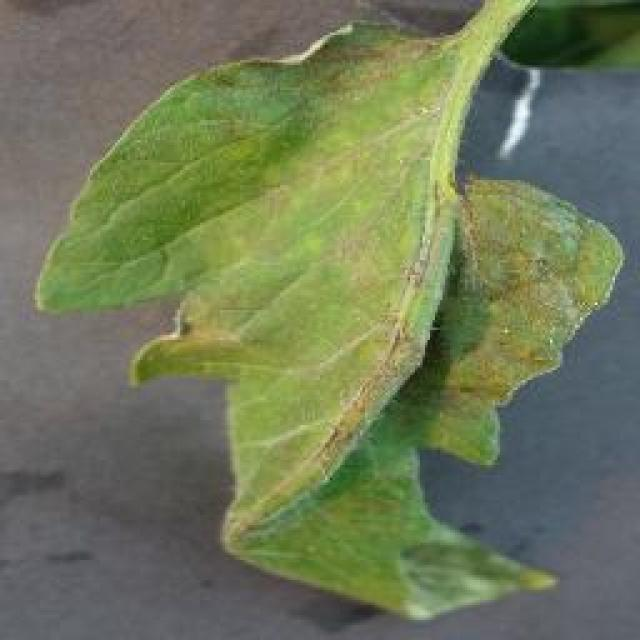Tomato Late Blight: (273, 25, 535, 610)
